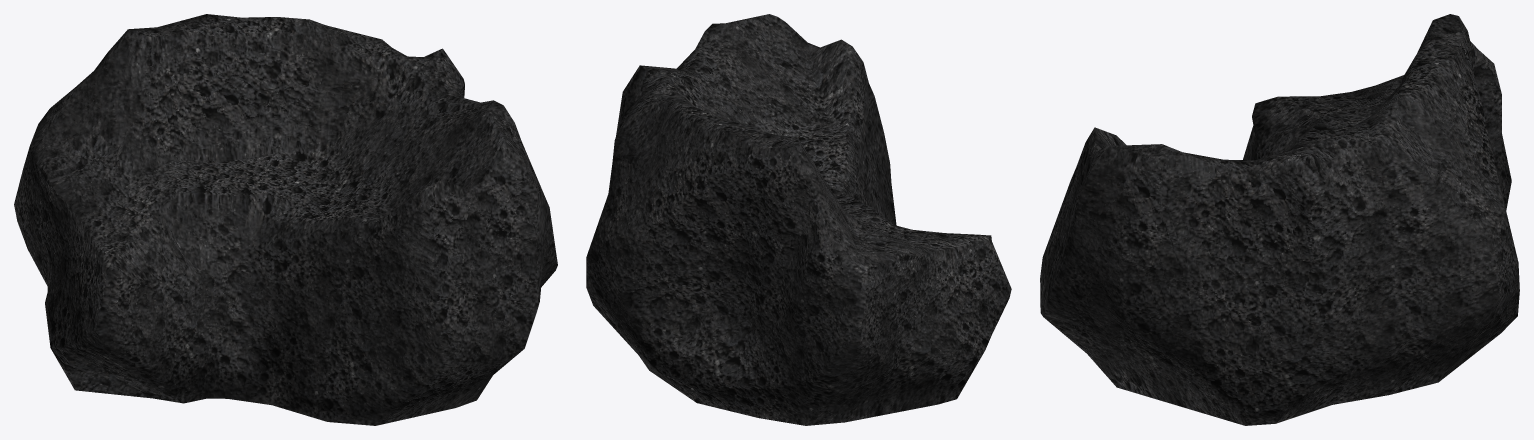
Rendered from ArtistVolcanicRock09.fbx.
3 renders of one model, left to right at view 1: azimuth 30°, elevation 25°; view 2: azimuth 150°, elevation 25°; view 3: azimuth 270°, elevation 25°, orthographic. The views are drawn at different scales.
Visible parts, largest first — view 1: ArtistVolcanicRock09_LOD0; view 2: ArtistVolcanicRock09_LOD0; view 3: ArtistVolcanicRock09_LOD0.
Part boxes in pixels (box(x1,y1,x2,y2)): ArtistVolcanicRock09_LOD0: box(14, 14, 557, 425); ArtistVolcanicRock09_LOD0: box(586, 14, 1011, 425); ArtistVolcanicRock09_LOD0: box(1040, 14, 1519, 425).
Size of what is drawn, in the model's own units: 2.18 by 1.46 by 2.21.
1 material, 1 textured.
